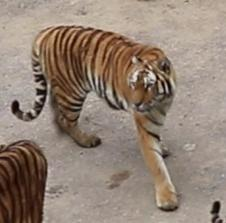tiger: (11, 25, 176, 209)
